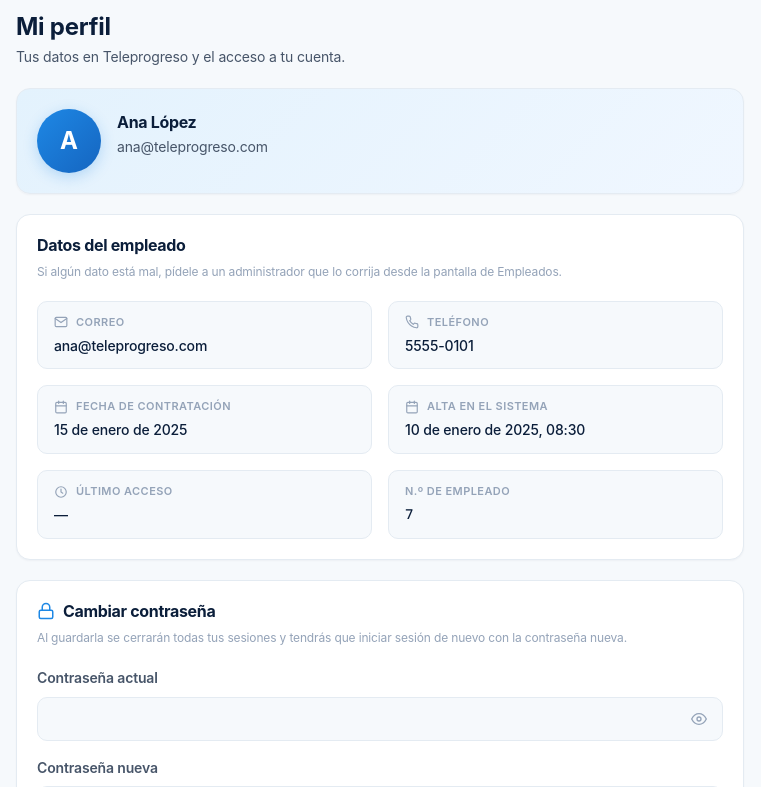
Test: PerfilPage › guarda la contraseña, avisa y cierra la sesión
Expected: the heading "Ana López" is shown, [117,112,196,132]
Type "Vieja1234" into the password field labelled "Contraseña actual" at (380, 719), box [37,697,723,741]
(page scrolled)
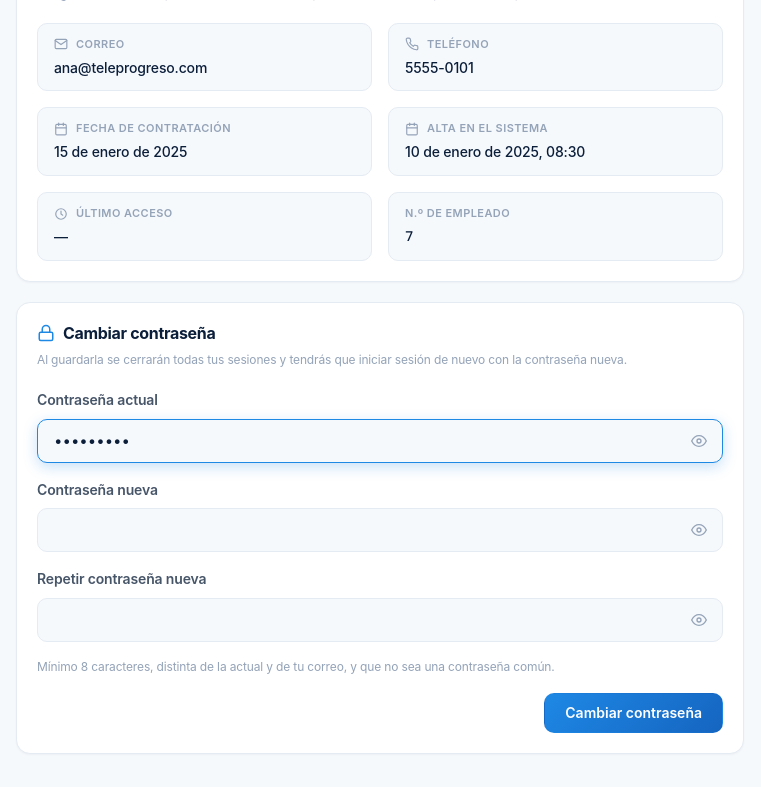
Type "Nueva12345" into the password field labelled "Contraseña nueva" at (380, 530), box [37,508,723,552]
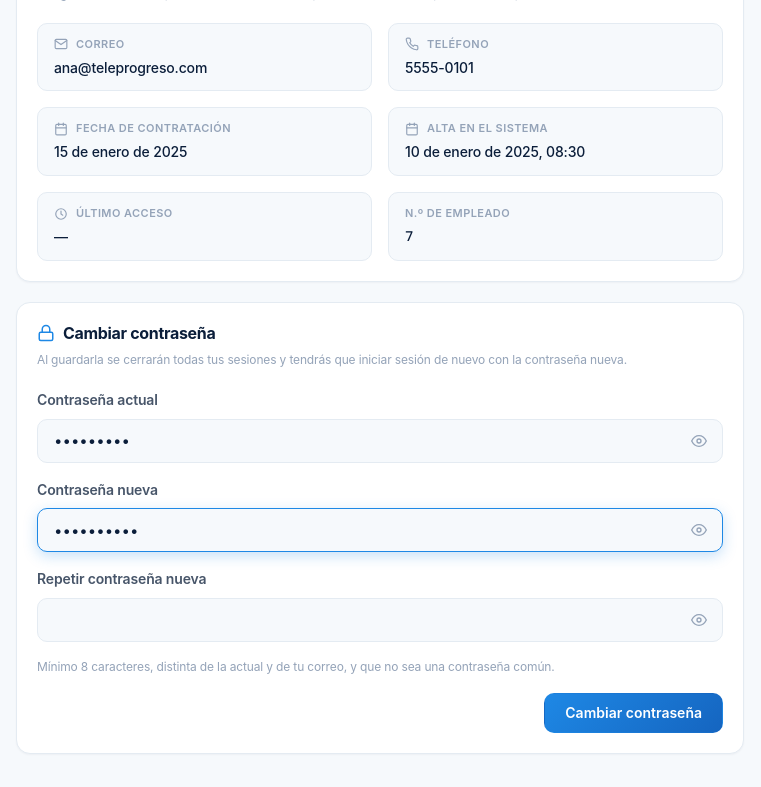
Type "Nueva12345" into the password field labelled "Repetir contraseña nueva" at (380, 620), box [37,598,723,642]
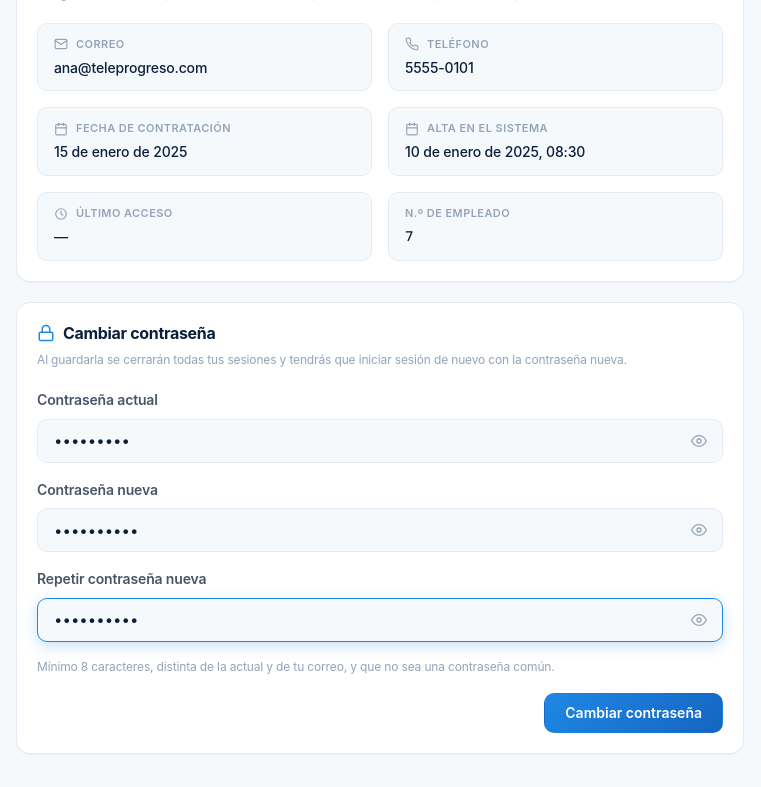
Click the button "Cambiar contraseña" at (634, 712), box [544,692,723,732]
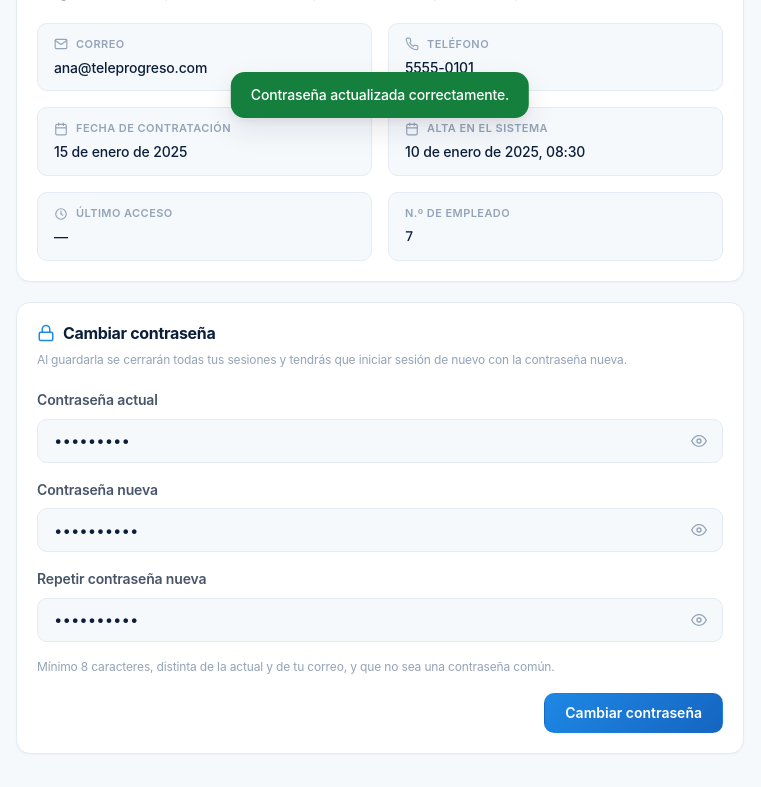
Result: the text "Contraseña actualizada correctamente." is shown at [231,72,529,118]
